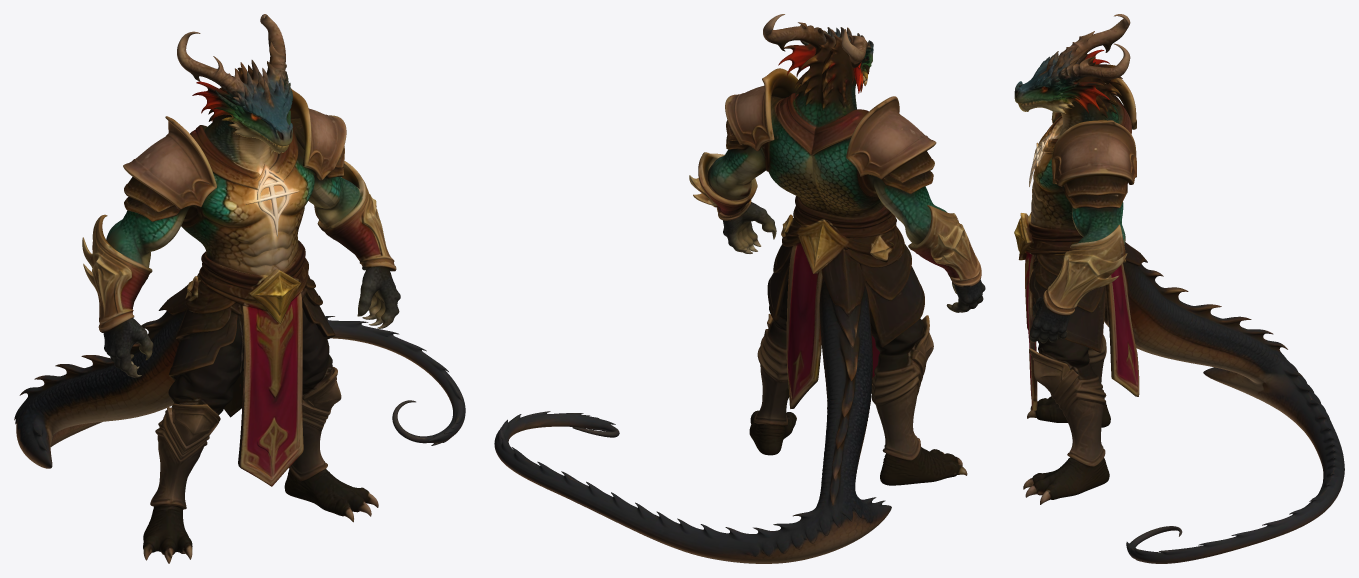
Rendered from dragonborn_cleric_full_male_01.glb.
The picture shows the model from 3 angles, left to right: view 1: azimuth 30°, elevation 25°; view 2: azimuth 150°, elevation 25°; view 3: azimuth 270°, elevation 25°; orthographic projection. The views are drawn at different scales.
Visible parts, largest first — view 1: material; view 2: material; view 3: material.
Part boxes in pixels (<box>): material: <box>14,14,465,563</box>; material: <box>494,14,985,563</box>; material: <box>1014,14,1344,563</box>.
Size of the model in its own units: 0.7938 by 0.8653 by 0.603.
1 material, 1 textured.
